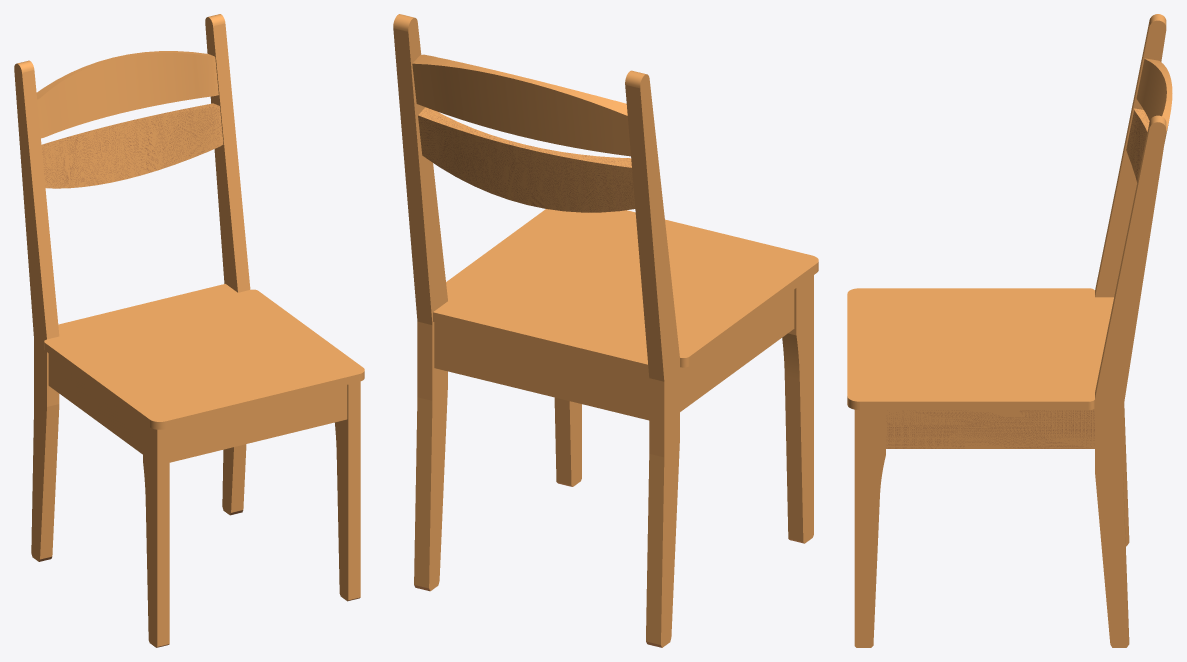
The picture shows the model from 3 angles, left to right: view 1: azimuth 30°, elevation 25°; view 2: azimuth 150°, elevation 25°; view 3: azimuth 270°, elevation 25°; orthographic projection. The views are drawn at different scales.
Visible parts, largest first — view 1: Seat, Chair_rung (×2), Back_rung (×2), Front_leg (×2), Apron_back, Apron_side; view 2: Seat, Back_rung (×2), Chair_rung (×2), Apron_back, Front_leg (×2), Apron_side; view 3: Seat, Back_rung (×2), Apron_side, Front_leg, Chair_rung (×2).
Boxes of the visible parts, bbox=[...] form: Seat: bbox=[44, 284, 364, 429]; Chair_rung (×2): bbox=[36, 51, 223, 188]; Back_rung (×2): bbox=[14, 14, 250, 561]; Front_leg (×2): bbox=[143, 381, 360, 647]; Apron_back: bbox=[169, 385, 347, 462]; Apron_side: bbox=[48, 353, 142, 454]; Seat: bbox=[433, 209, 818, 374]; Back_rung (×2): bbox=[393, 14, 679, 647]; Chair_rung (×2): bbox=[412, 54, 635, 212]; Apron_back: bbox=[434, 322, 649, 420]; Front_leg (×2): bbox=[554, 275, 813, 543]; Apron_side: bbox=[680, 290, 794, 411]; Seat: bbox=[847, 288, 1113, 410]; Back_rung (×2): bbox=[1095, 14, 1166, 647]; Apron_side: bbox=[886, 408, 1094, 448]; Front_leg: bbox=[854, 409, 885, 647]; Chair_rung (×2): bbox=[1126, 58, 1172, 182].
Bounding box in the file's own units: 16.93 × 20.5 × 36.59.
